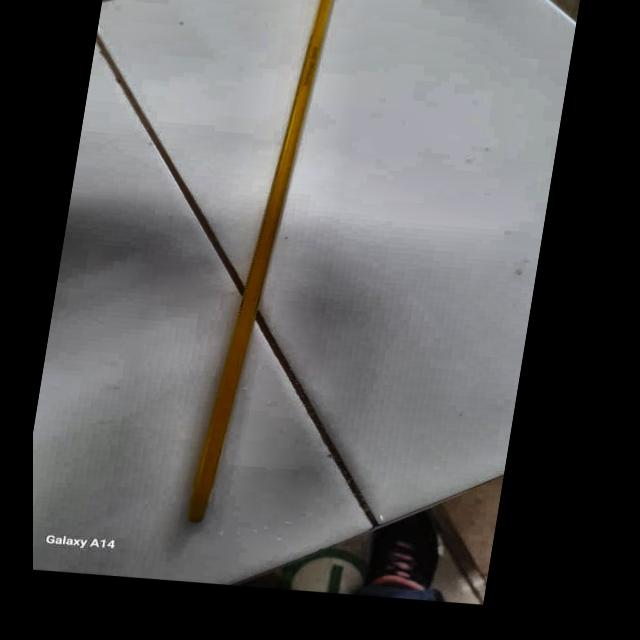Thermometer: (180, 0, 356, 531)
